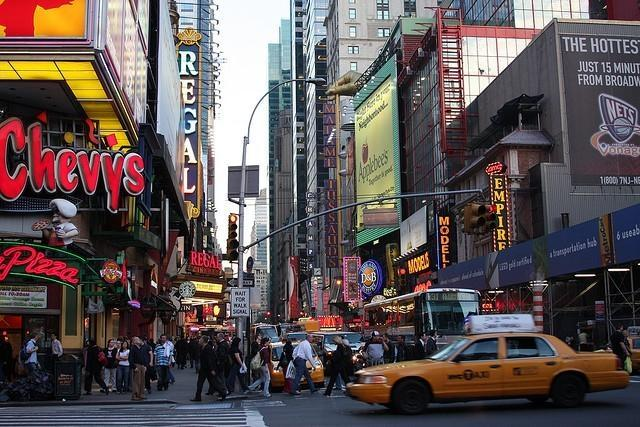bus: (362, 290, 481, 348)
car: (347, 332, 630, 414), (268, 338, 324, 390), (312, 330, 366, 356), (284, 332, 308, 342)
